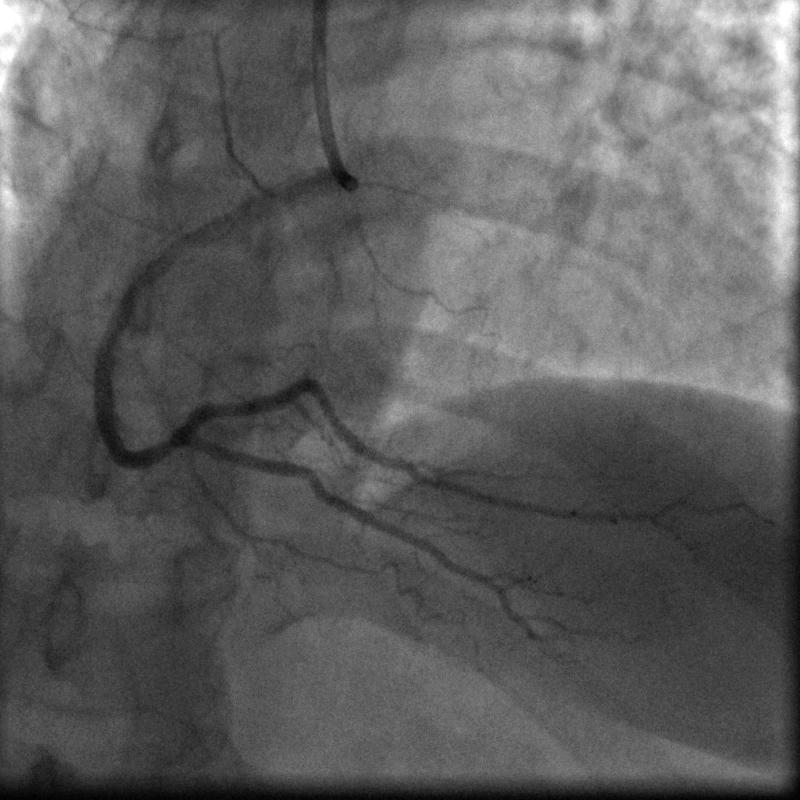Stenosis: (152, 429, 189, 457)
